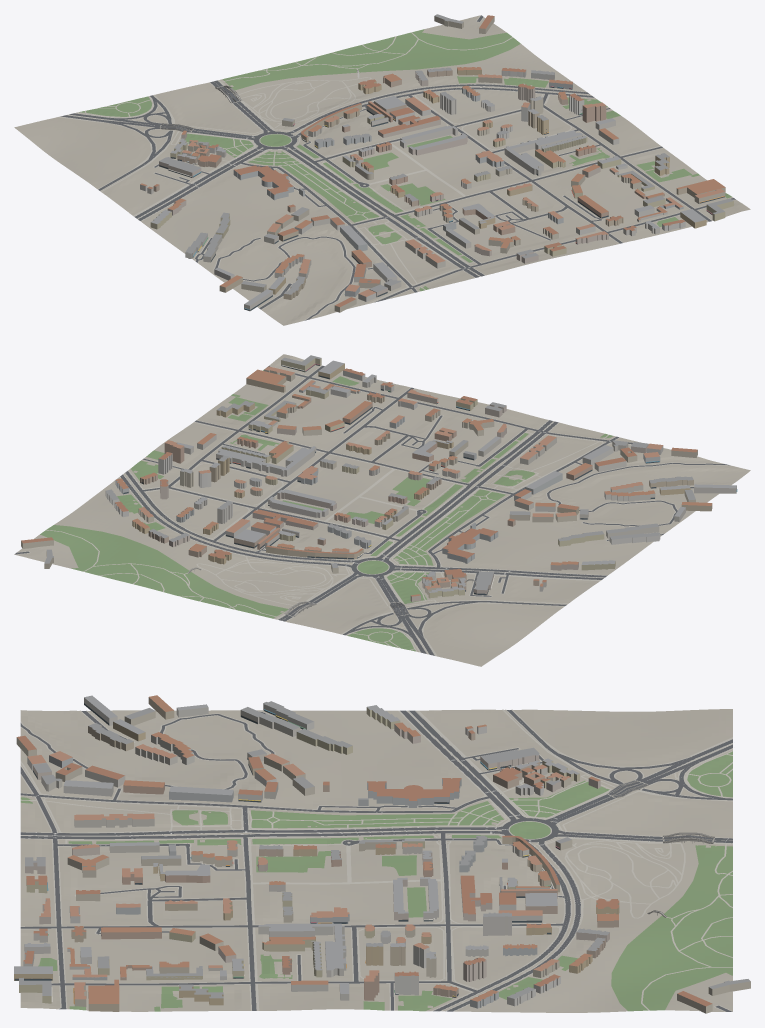
3 views of the same model, one above another, from view 1: azimuth 30°, elevation 25°; view 2: azimuth 150°, elevation 25°; view 3: azimuth 270°, elevation 25° (orthographic). The views are drawn at different scales.
Visible parts, largest first — view 1: Ground, Walls, Roofs, Park, Sidewalk, Road, Detail; view 2: Ground, Walls, Roofs, Sidewalk, Park, Road, Detail; view 3: Ground, Walls, Roofs, Park, Sidewalk, Road, Detail, Struct, Curb, Marks.
Part boxes in pixels (box(x1,y1,x2,y2)): Ground: box(14, 15, 750, 325); Walls: box(140, 16, 733, 312); Roofs: box(140, 14, 733, 306); Park: box(79, 29, 731, 291); Sidewalk: box(57, 15, 736, 321); Road: box(61, 15, 735, 320); Detail: box(159, 86, 724, 310); Ground: box(15, 354, 750, 666); Walls: box(21, 358, 736, 601); Roofs: box(21, 355, 736, 596); Sidewalk: box(14, 365, 731, 656); Park: box(40, 370, 612, 651); Road: box(14, 365, 729, 655); Detail: box(123, 363, 737, 595); Ground: box(20, 709, 732, 1012); Walls: box(14, 697, 750, 1013); Roofs: box(14, 695, 750, 1006); Park: box(20, 751, 732, 1011); Sidewalk: box(20, 709, 732, 1011); Road: box(20, 710, 732, 1011); Detail: box(14, 703, 559, 1004); Struct: box(505, 765, 714, 917); Curb: box(22, 711, 731, 1006); Marks: box(28, 710, 732, 1010).
Bounding box in the file's own units: 1034 × 36.47 × 1035.
